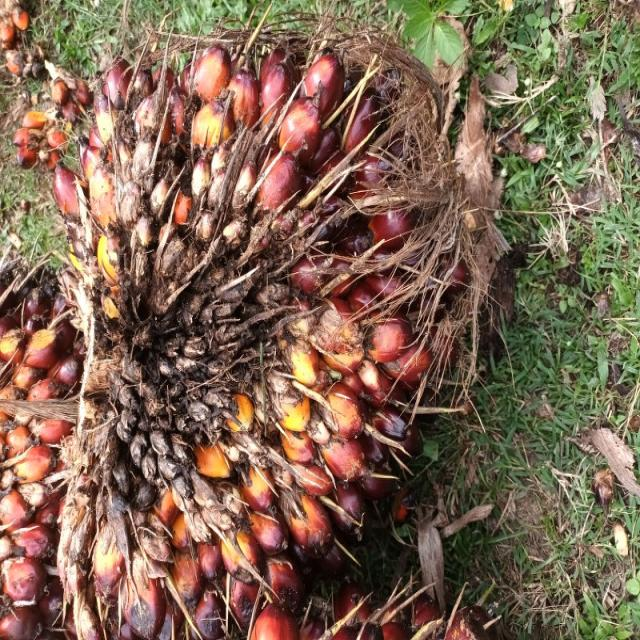fraksi 1: (94, 64, 460, 640)
